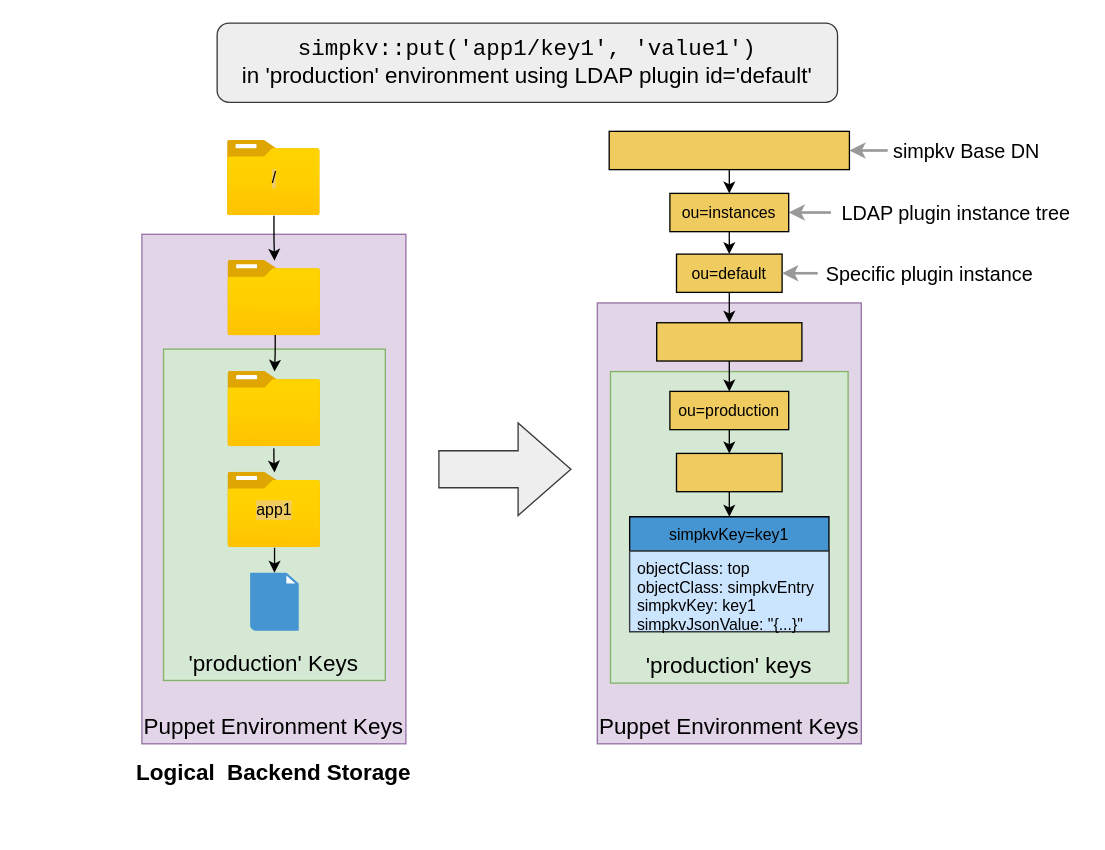
Some shapes in this 1105 by 850 pixel diagram are drawn without their labels. Here are the shapes that lost their labels. From the top down, the centre of each, then its label:
(x=728, y=150): ou=simpkv,ou=puppet,dc=simp
(x=274, y=297): environments
(x=728, y=341): ou=environments
(x=274, y=408): production
(x=728, y=472): ou=app1
(x=273, y=601): key1
(x=728, y=773): LDAP Backend Storage
